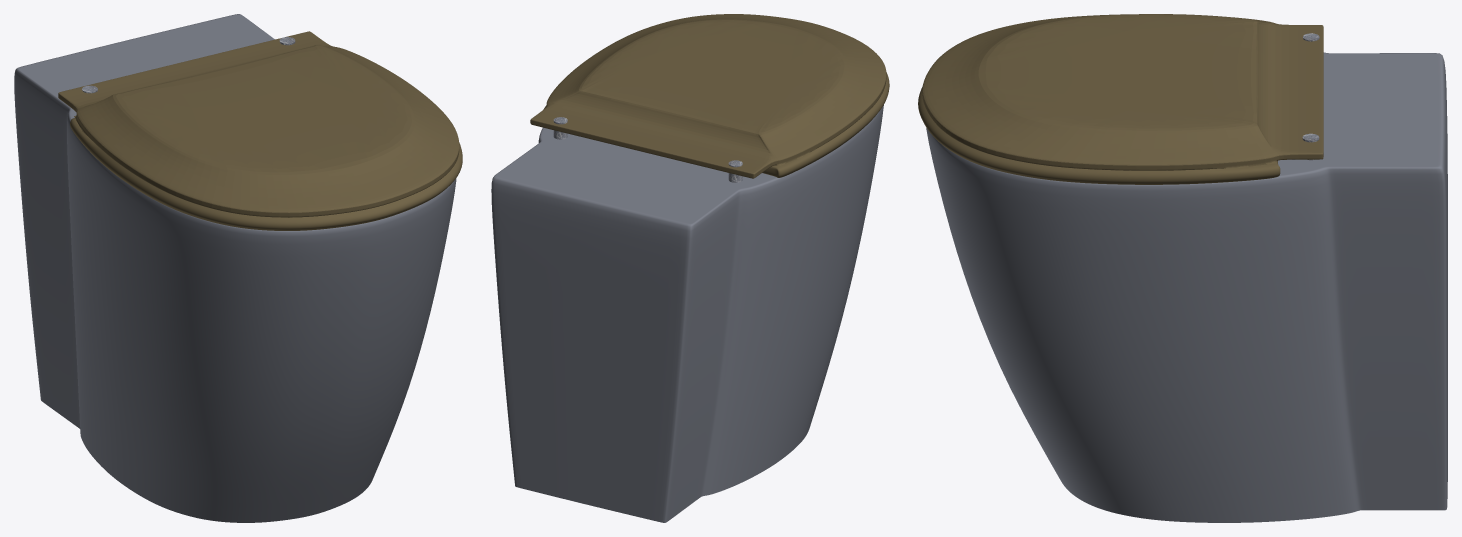
3 renders of one model, left to right at view 1: azimuth 30°, elevation 25°; view 2: azimuth 150°, elevation 25°; view 3: azimuth 270°, elevation 25°, orthographic. The views are drawn at different scales.
Parts seen in each view (by area): view 1: POT_Circle_003, COVER_Circle_005, SEAT_Circle_004; view 2: POT_Circle_003, COVER_Circle_005, SEAT_Circle_004; view 3: POT_Circle_003, COVER_Circle_005, SEAT_Circle_004.
Part boxes in pixels (x1=…): POT_Circle_003: x1=14, y1=14, x2=456, y2=522; COVER_Circle_005: x1=58, y1=31, x2=459, y2=217; SEAT_Circle_004: x1=70, y1=118, x2=462, y2=230; POT_Circle_003: x1=491, y1=105, x2=883, y2=522; COVER_Circle_005: x1=530, y1=14, x2=886, y2=178; SEAT_Circle_004: x1=543, y1=72, x2=889, y2=177; POT_Circle_003: x1=926, y1=52, x2=1447, y2=522; COVER_Circle_005: x1=922, y1=14, x2=1323, y2=170; SEAT_Circle_004: x1=918, y1=87, x2=1280, y2=184.
Size of the model in its own units: 0.5782 by 0.6963 by 0.8442.
3 materials, 3 textured.
